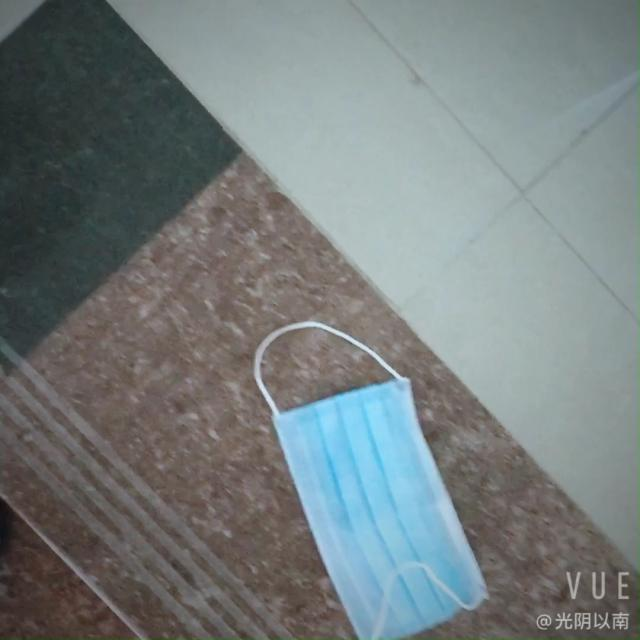face mask: (279, 373, 478, 640)
